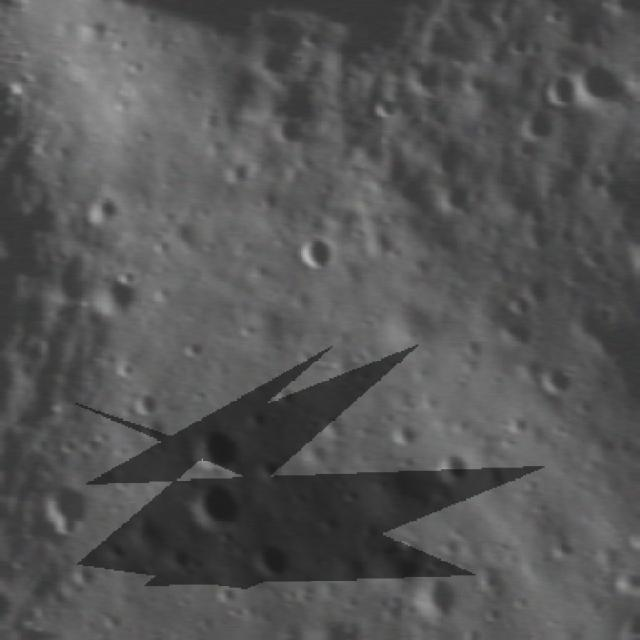crater: (42, 477, 106, 545), (192, 474, 259, 537), (183, 416, 246, 478), (410, 568, 468, 628), (533, 353, 578, 415), (570, 60, 632, 105), (424, 452, 478, 498), (508, 105, 561, 149), (294, 229, 337, 277), (254, 539, 298, 583), (0, 617, 82, 640), (540, 71, 586, 111), (267, 114, 310, 152), (383, 626, 431, 640), (634, 230, 640, 287)
